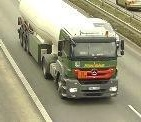truck: (18, 0, 124, 100)
